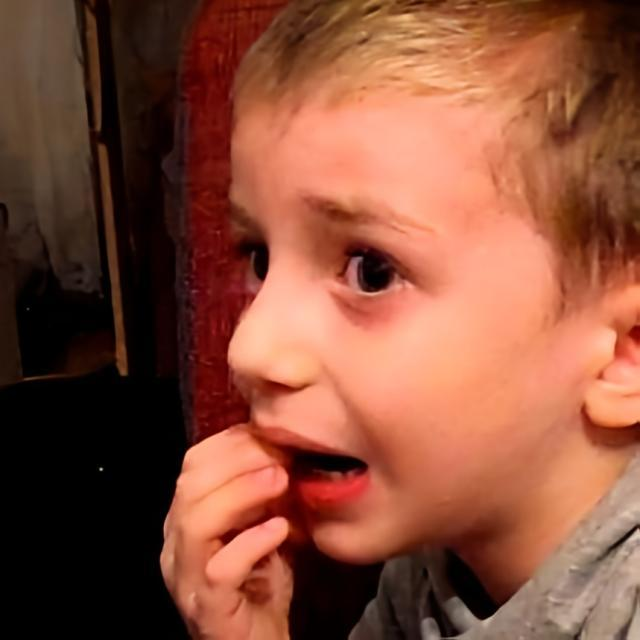fear: (223, 58, 582, 568)
